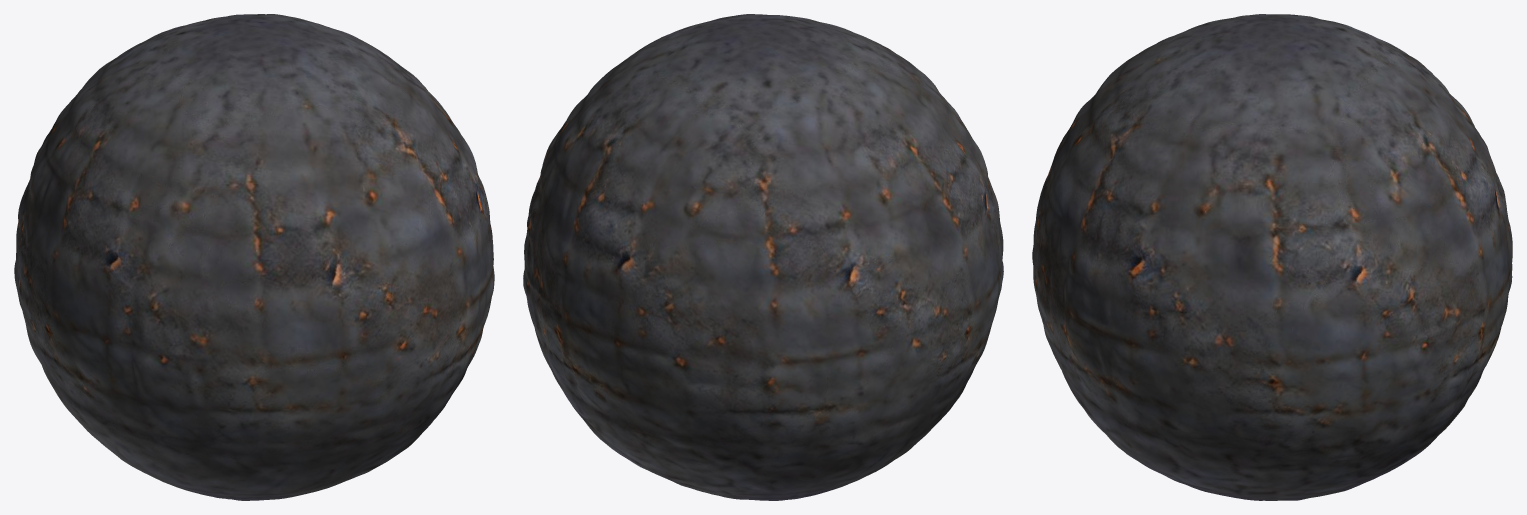
The model's file is regret.glb.
3 views of the same model, side by side, from view 1: azimuth 30°, elevation 25°; view 2: azimuth 150°, elevation 25°; view 3: azimuth 270°, elevation 25° (orthographic).
Visible parts, largest first — view 1: geometry_0; view 2: geometry_0; view 3: geometry_0.
Part boxes in pixels (x1,y1,x2,y2): geometry_0: (14, 14, 494, 500); geometry_0: (523, 14, 1003, 500); geometry_0: (1032, 14, 1512, 500).
Size of the model in its own units: 0.5883 by 0.6005 by 0.5899.
1 material, 1 textured.
